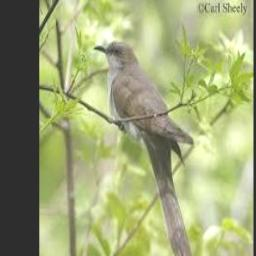Cuckoo: (94, 42, 194, 256)
